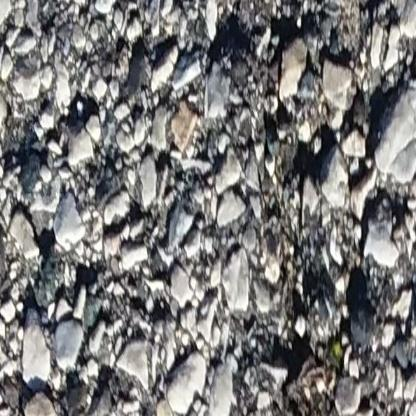Cracks: (256, 66, 416, 416), (109, 14, 356, 109), (0, 89, 100, 187)
